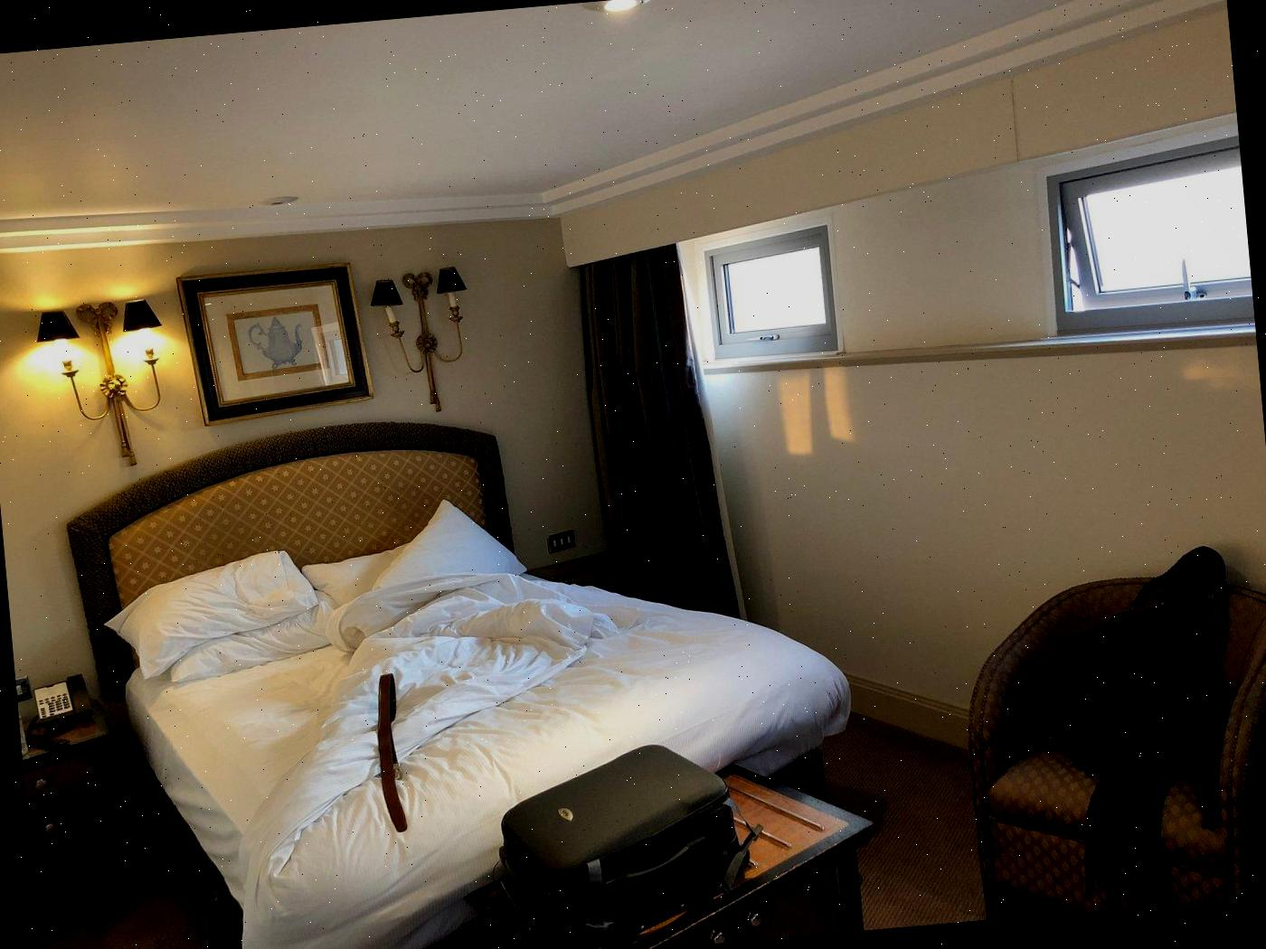Disorganized_pillow: (97, 494, 527, 688)
lamp: (39, 295, 178, 474), (372, 268, 472, 422)
messy_bed: (63, 424, 845, 880)
